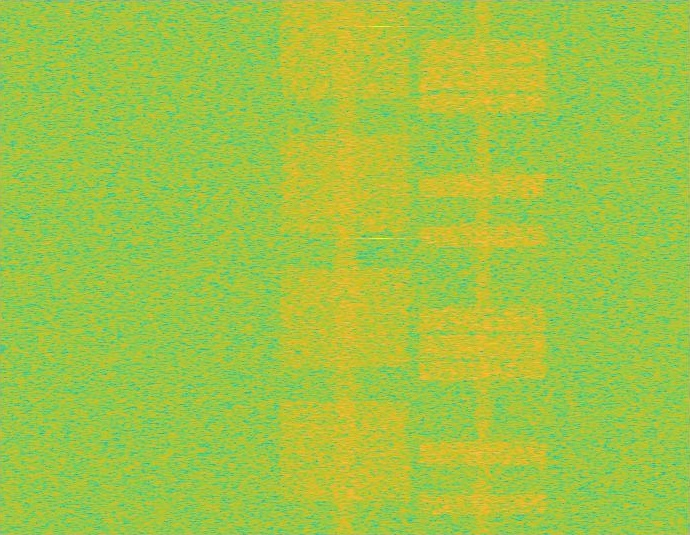5G: (276, 0, 414, 534)
DSSS: (329, 0, 361, 534), (474, 0, 492, 534)
LTE: (414, 0, 552, 534)
Radar: (374, 0, 387, 534)
